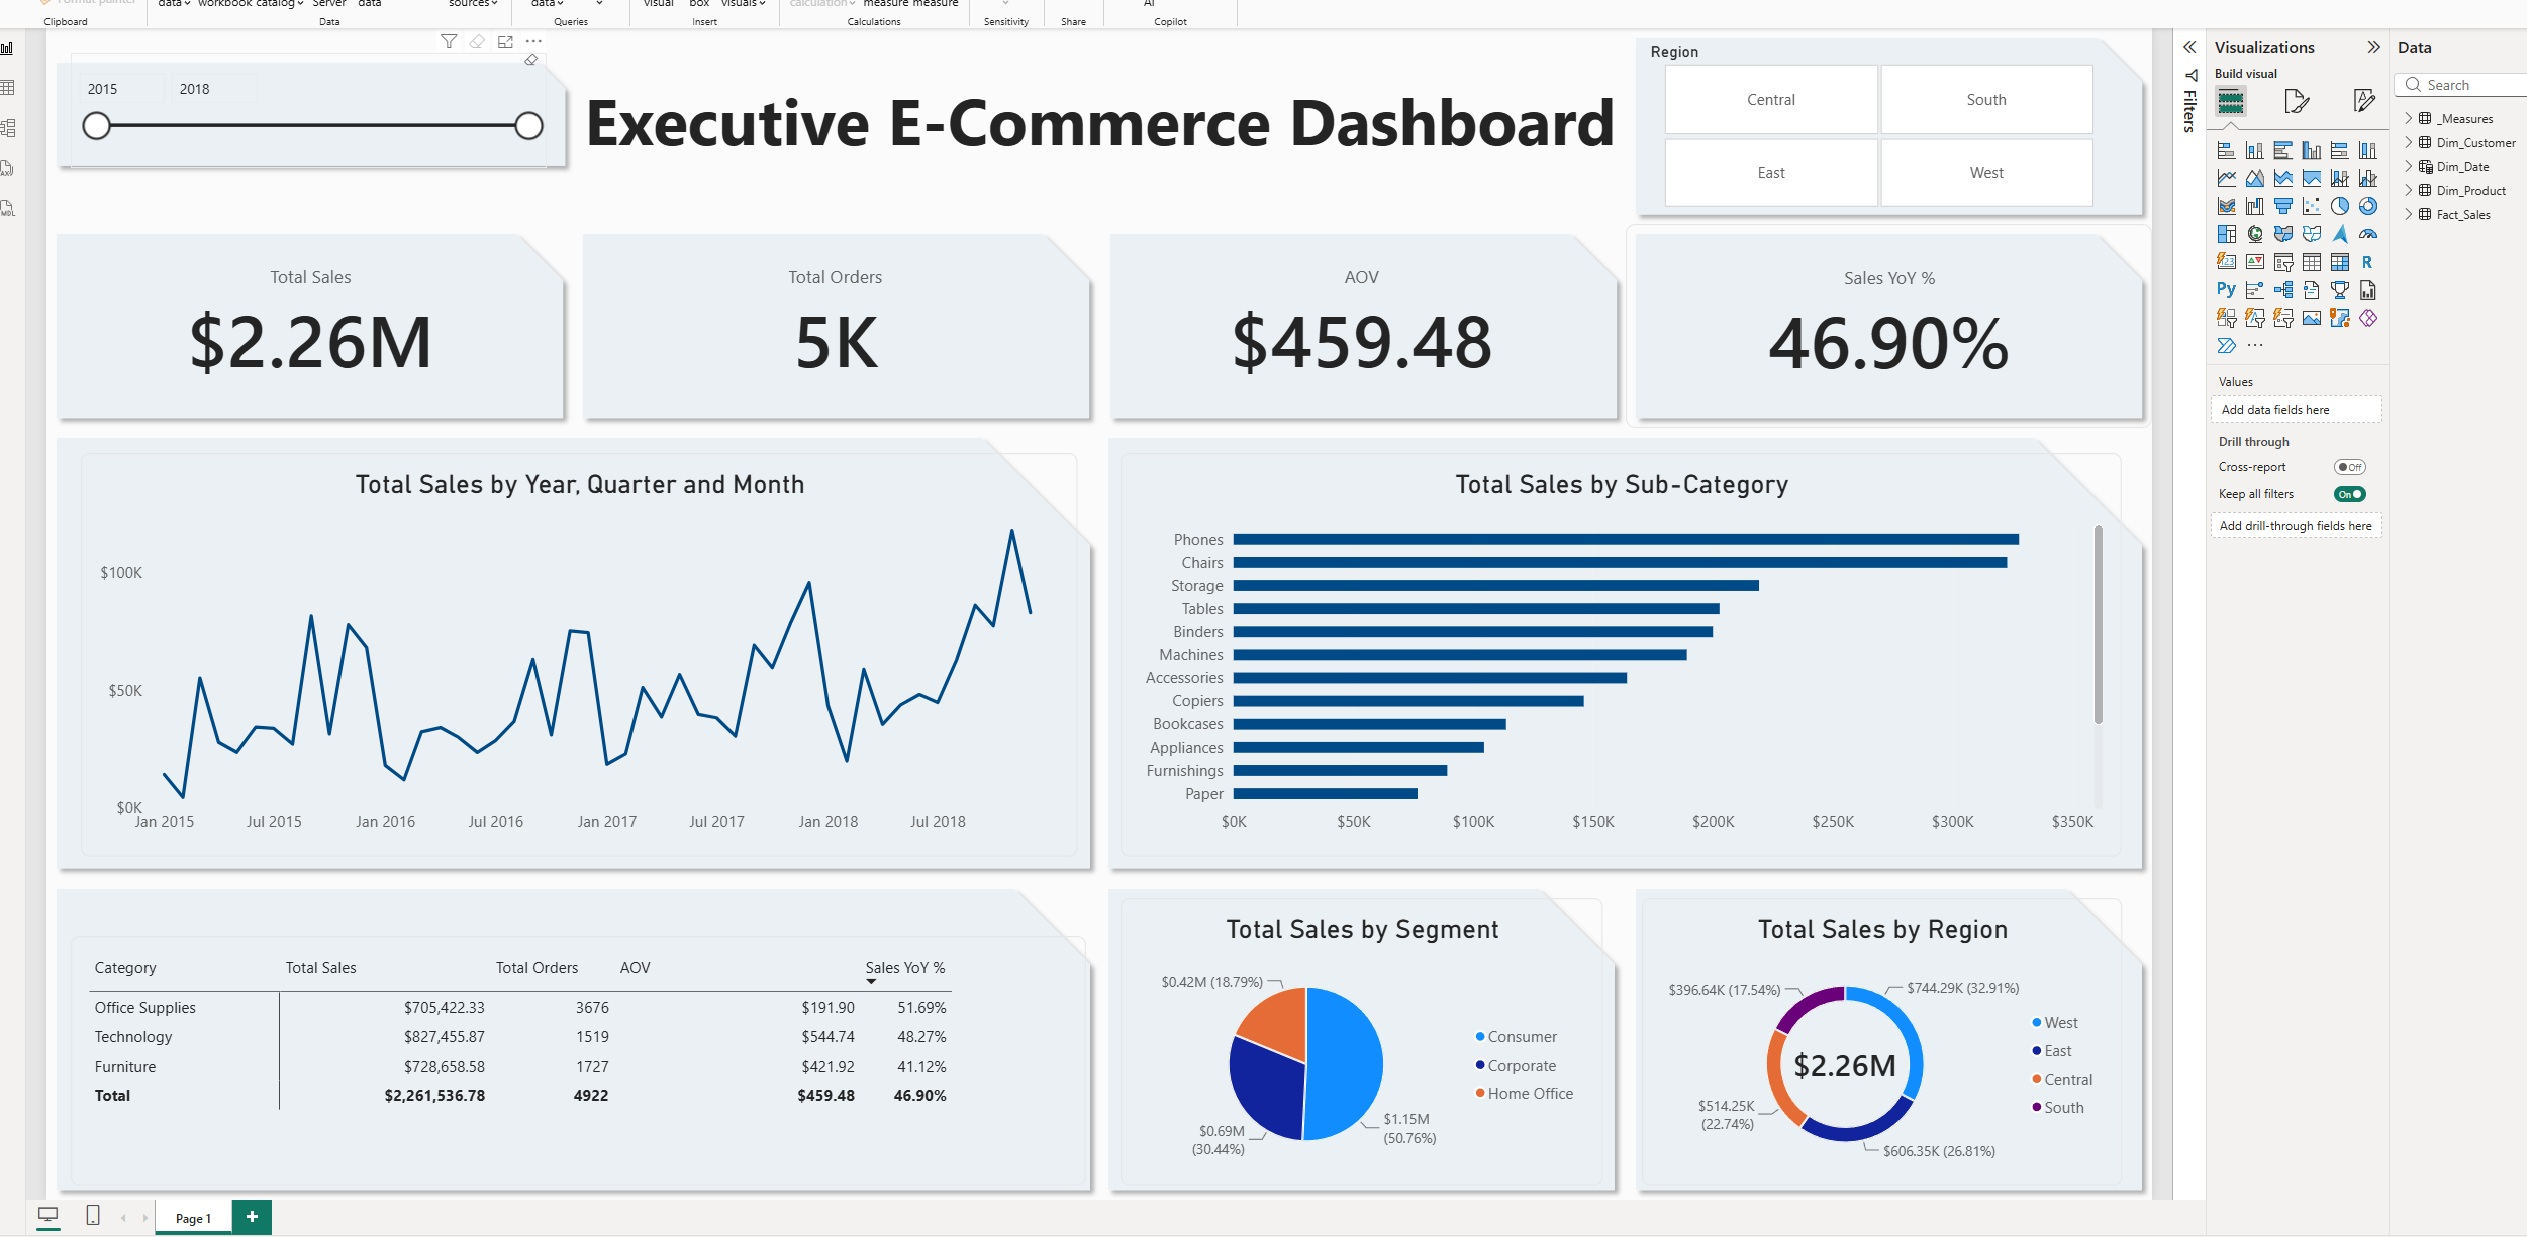

This screenshot's page, from the dashboard's own definition file:
{"tool":"powerbi","page":{"name":"Page 1","canvas":[1920,1080],"ordinal":0},"visuals":[{"type":"group","id":"g1","title":"background","box":[0,0,1920,1080],"z":0},{"type":"shape","box":[0,23,482,113],"z":0,"group":"g1"},{"type":"shape","box":[1440,0,480,181],"z":1000,"group":"g1"},{"type":"pivotTable","fields":{"Rows":["Dim_Product.Category"],"Values":["_Measures.Total Sales","_Measures.Total Orders","_Measures.AOV","_Measures.Sales YoY %"]},"box":[22,837,926,230],"z":1000},{"type":"slicer","title":"Year","fields":{"Values":["Dim_Date.Year"]},"box":[22,23,434,106],"z":2000},{"type":"shape","box":[0,181,480,188],"z":2000,"group":"g1"},{"type":"slicer","fields":{"Values":["Dim_Customer.Region"]},"box":[1455,14,431,153],"z":3000},{"type":"shape","box":[480,181,480,188],"z":3000,"group":"g1"},{"type":"cardVisual","fields":{"Data":["_Measures.Total Orders"]},"box":[480,181,479,188],"z":4000},{"type":"shape","box":[961,181,480,188],"z":4000,"group":"g1"},{"type":"cardVisual","fields":{"Data":["_Measures.Sales YoY %"]},"box":[1440,181,480,188],"z":5000},{"type":"shape","box":[1440,181,480,188],"z":5000,"group":"g1"},{"type":"cardVisual","fields":{"Data":["_Measures.AOV"]},"box":[960,181,479,188],"z":6000},{"type":"shape","box":[0,369,961,415],"z":6000,"group":"g1"},{"type":"cardVisual","fields":{"Data":["_Measures.Total Sales"]},"box":[0,181,482,188],"z":7000},{"type":"shape","box":[959,369,961,415],"z":7000,"group":"g1"},{"type":"lineChart","fields":{"Category":["Dim_Date.Date.Variation.Date Hierarchy.Year","Dim_Date.Date.Variation.Date Hierarchy.Quarter","Dim_Date.Date.Variation.Date Hierarchy.Month","Dim_Date.Date.Variation.Date Hierarchy.Day"],"Y":["_Measures.Total Sales"]},"box":[31,392,909,372],"z":8000},{"type":"shape","box":[0,784,961,296],"z":8000,"group":"g1"},{"type":"clusteredBarChart","fields":{"Category":["Dim_Product.Sub-Category"],"Y":["_Measures.Total Sales"]},"box":[980,392,913,372],"z":9000},{"type":"shape","box":[959,784,480,296],"z":9000,"group":"g1"},{"type":"shape","box":[1440,784,480,296],"z":10000,"group":"g1"},{"type":"pieChart","fields":{"Category":["Dim_Customer.Segment"],"Y":["_Measures.Total Sales"]},"box":[980,802,440,265],"z":10000},{"type":"donutChart","fields":{"Category":["Dim_Customer.Region"],"Y":["_Measures.Total Sales"]},"box":[1455,802,438,265],"z":11000},{"type":"textbox","box":[482,45,958,91],"z":12000}]}

Visuals, with their boxes on the page's 1920x1080 design canvas (x1, y1, x2, y2). These are canvas units, not pixel positions in the 2527x1237 screenshot, which may show the page scaled, cropped or inside an application window:
"background" group: 0, 0, 1920, 1080
shape: 0, 23, 482, 136
shape: 1440, 0, 1920, 181
pivotTable - Dim_Product.Category x _Measures.Total Sales: 22, 837, 948, 1067
"Year" slicer: 22, 23, 456, 129
shape: 0, 181, 480, 369
slicer - Dim_Customer.Region: 1455, 14, 1886, 167
shape: 480, 181, 960, 369
cardVisual - _Measures.Total Orders: 480, 181, 959, 369
shape: 961, 181, 1441, 369
cardVisual - _Measures.Sales YoY %: 1440, 181, 1920, 369
shape: 1440, 181, 1920, 369
cardVisual - _Measures.AOV: 960, 181, 1439, 369
shape: 0, 369, 961, 784
cardVisual - _Measures.Total Sales: 0, 181, 482, 369
shape: 959, 369, 1920, 784
lineChart - Dim_Date.Date.Variation.Date Hierarchy.Year x Dim_Date.Date.Variation.Date Hierarchy.Quarter: 31, 392, 940, 764
shape: 0, 784, 961, 1080
clusteredBarChart - Dim_Product.Sub-Category x _Measures.Total Sales: 980, 392, 1893, 764
shape: 959, 784, 1439, 1080
shape: 1440, 784, 1920, 1080
pieChart - Dim_Customer.Segment x _Measures.Total Sales: 980, 802, 1420, 1067
donutChart - Dim_Customer.Region x _Measures.Total Sales: 1455, 802, 1893, 1067
textbox: 482, 45, 1440, 136
